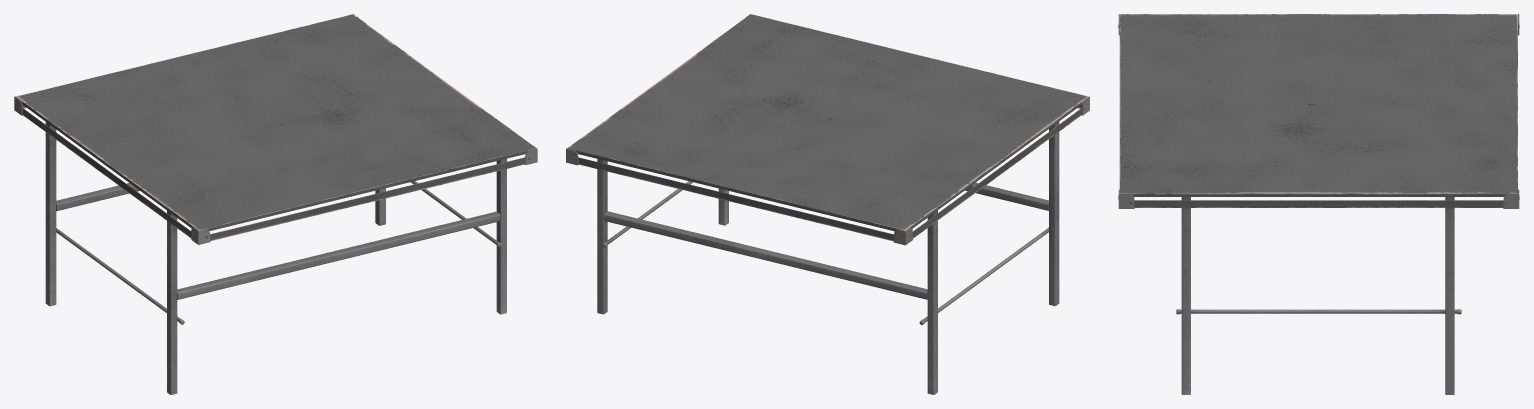
The model's file is SM_Table_01.fbx.
3 views of the same model, side by side, from view 1: azimuth 30°, elevation 25°; view 2: azimuth 150°, elevation 25°; view 3: azimuth 270°, elevation 25° (orthographic). The views are drawn at different scales.
Visible parts, largest first — view 1: SM_Table_01; view 2: SM_Table_01; view 3: SM_Table_01.
Part boxes in pixels (left/top/right/bottom): SM_Table_01: left=14, top=14, right=537, bottom=394; SM_Table_01: left=566, top=14, right=1089, bottom=394; SM_Table_01: left=1118, top=14, right=1519, bottom=394.
Size of the model in its own units: 218 by 205 by 114.
1 material, 1 textured.
